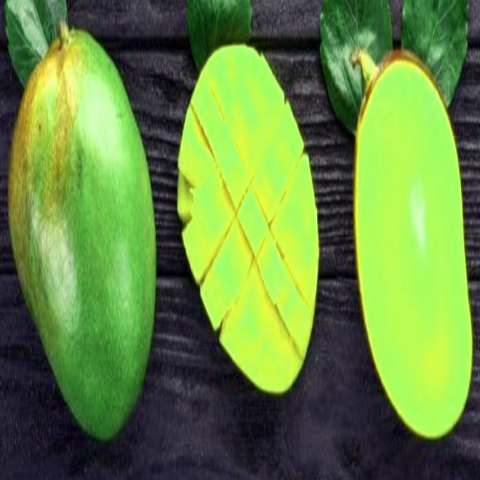mango: (3, 6, 164, 459), (170, 41, 322, 455), (339, 27, 480, 449)
